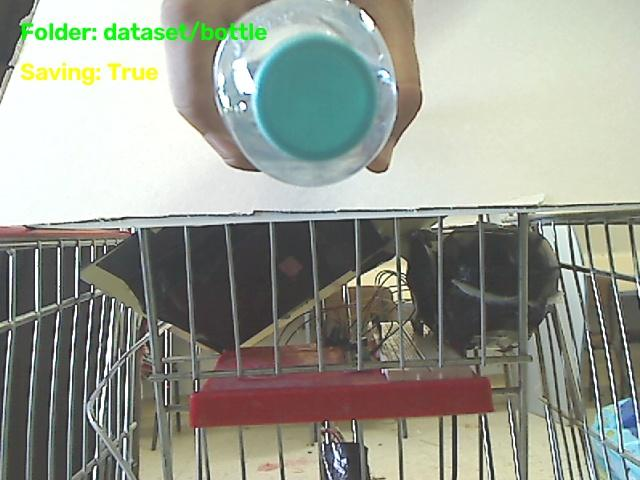can: (216, 3, 396, 184)
